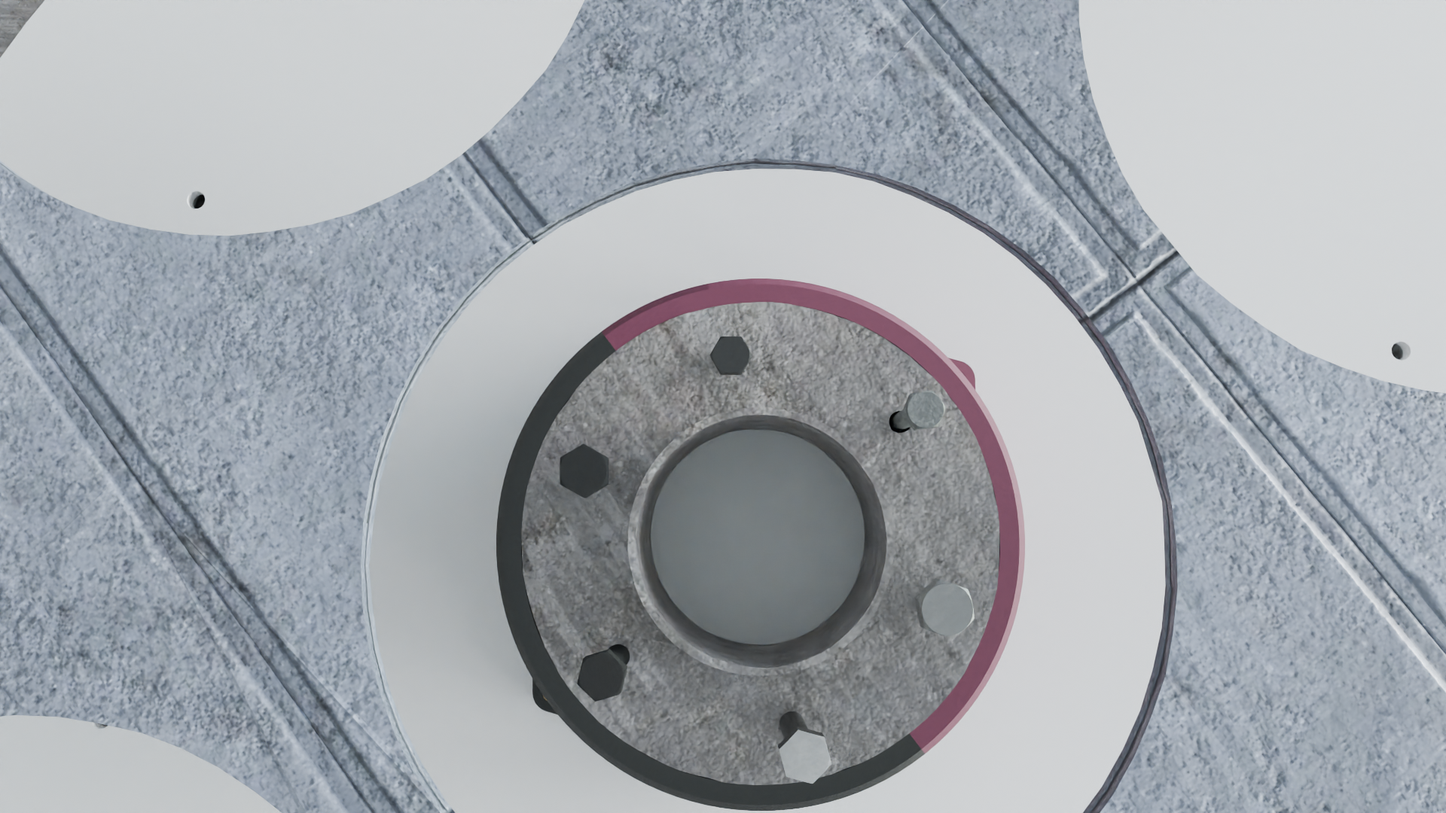bolt: (918, 580, 975, 638), (779, 730, 831, 784), (560, 444, 607, 498), (577, 651, 626, 702), (710, 336, 752, 373), (905, 391, 945, 429)
